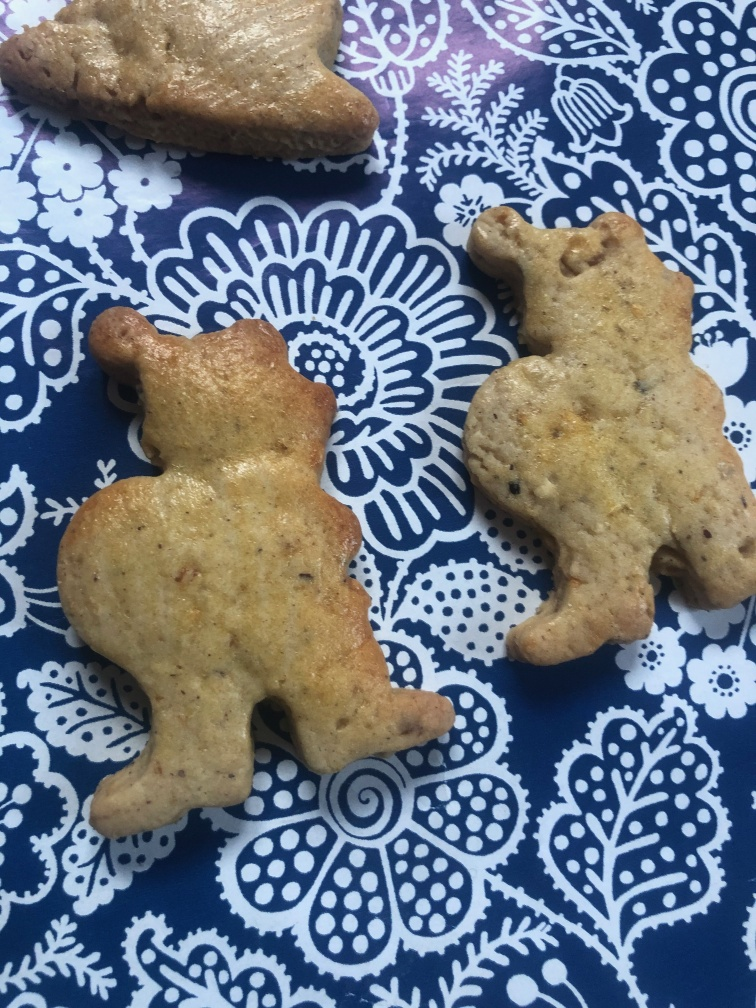santa claus: (43, 299, 459, 835), (447, 196, 755, 671)
